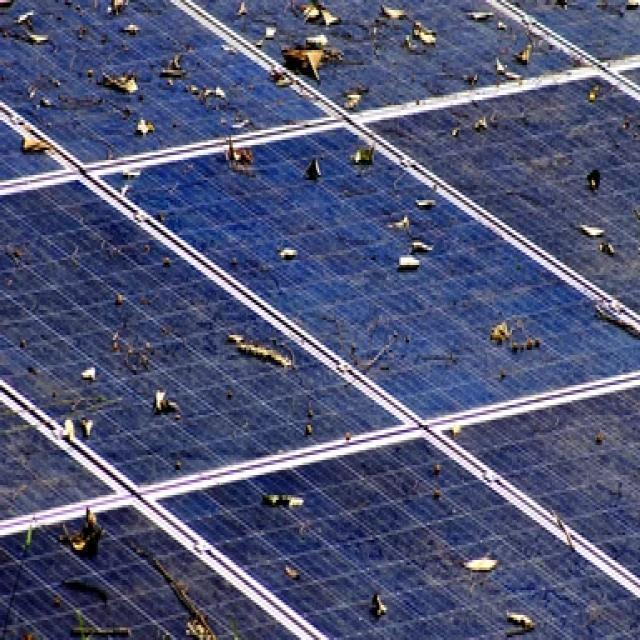Anomaly Solar Panel: (0, 61, 639, 535), (0, 381, 639, 639)
Surface Contaminant: (216, 142, 556, 362), (0, 211, 319, 442), (262, 447, 635, 636), (367, 75, 639, 313), (228, 0, 547, 112), (15, 507, 284, 639), (520, 390, 636, 529), (0, 397, 116, 524), (510, 0, 639, 33), (19, 128, 50, 157)
